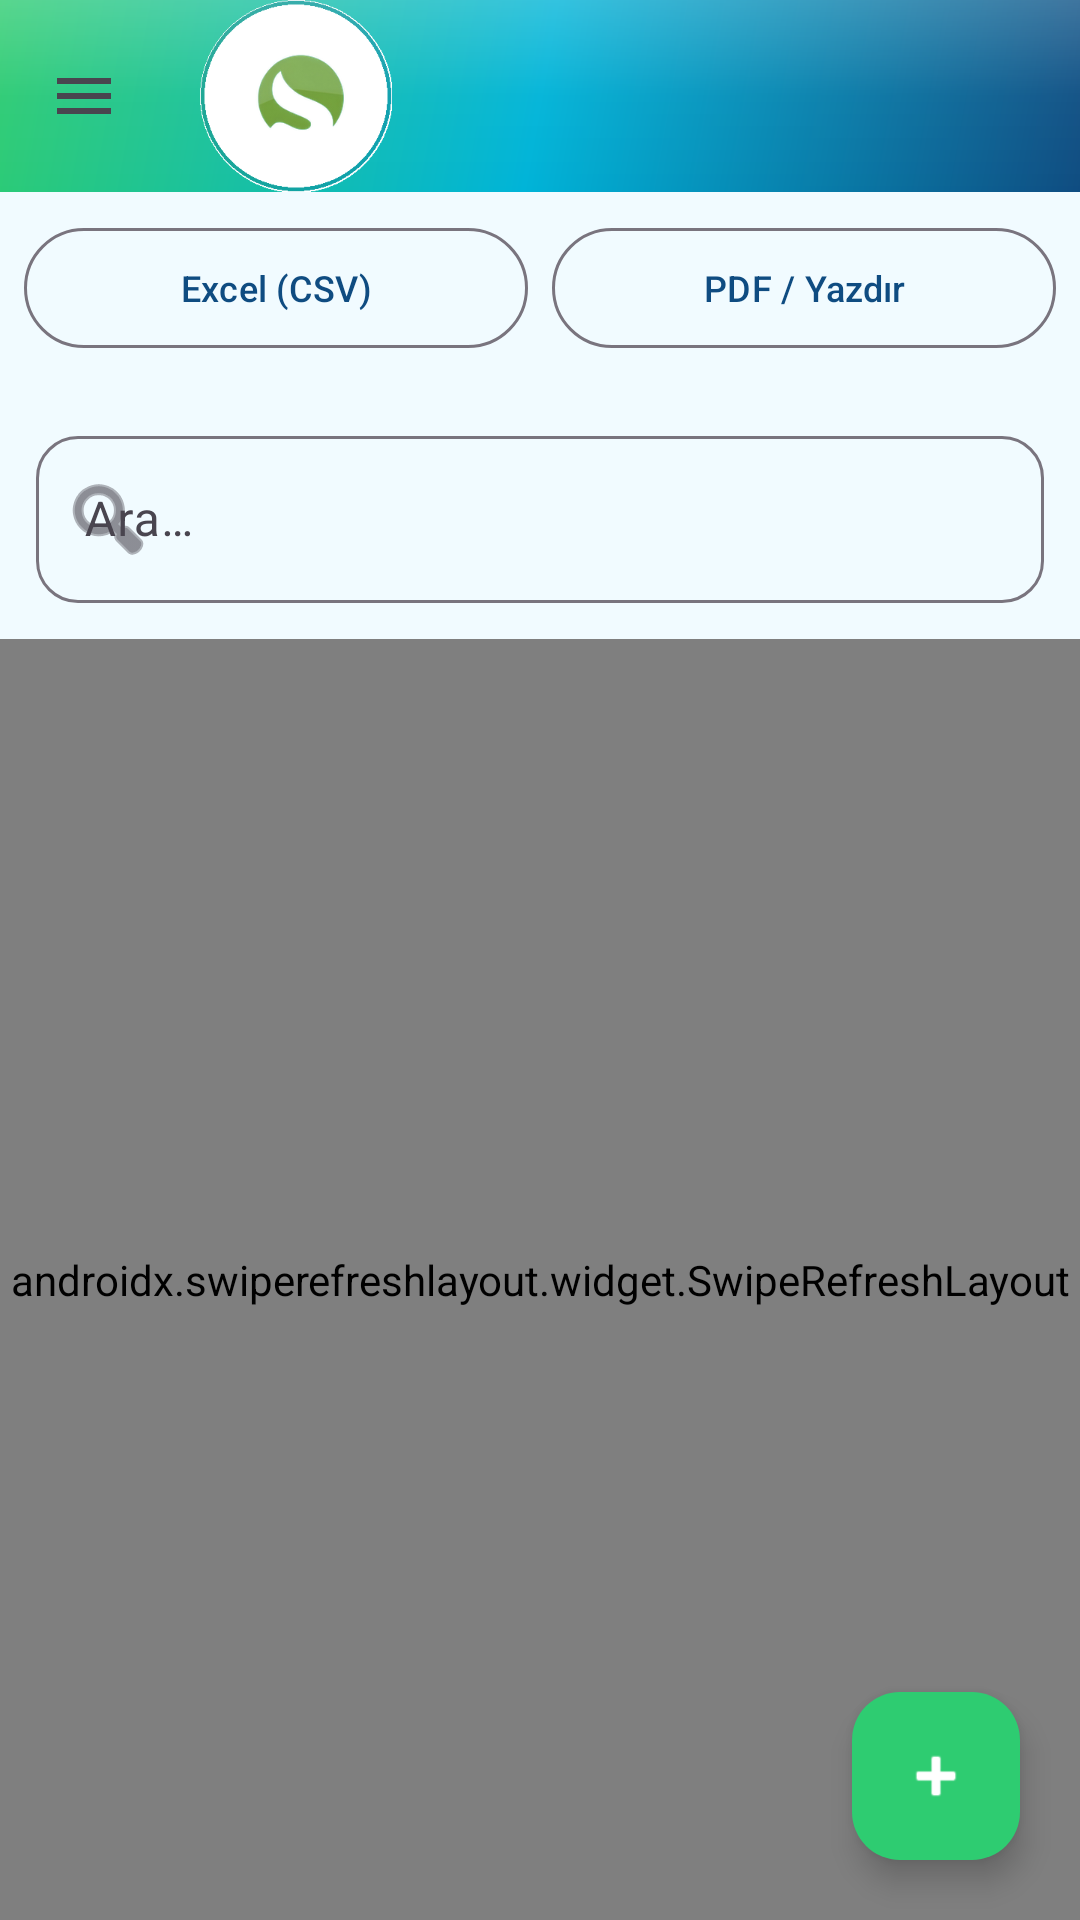

Icons on this 1080 × 1920 Android screen, each with its box as {"x1": x1, "y1": y1, "x2": x2, "y2": y2}:
Ekle: {"x1": 852, "y1": 1692, "x2": 1020, "y2": 1860}
